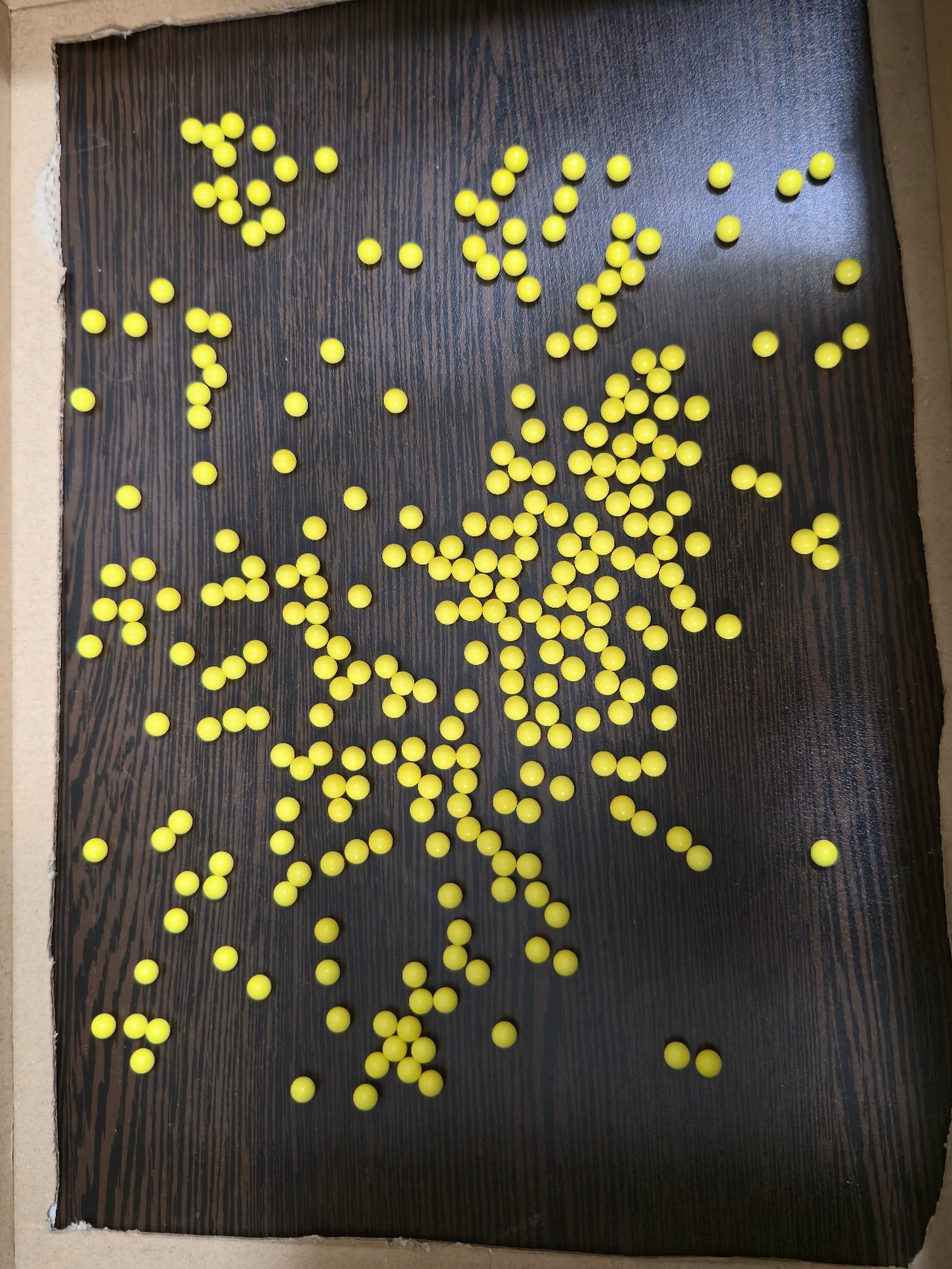yellow_bead: (187, 124, 231, 161), (198, 350, 220, 382), (191, 314, 225, 332), (817, 846, 832, 861), (815, 158, 829, 173), (460, 199, 477, 211), (819, 519, 833, 533), (849, 330, 863, 344), (149, 1025, 164, 1038), (560, 191, 572, 207), (657, 712, 671, 725), (625, 684, 639, 697), (798, 535, 812, 548), (646, 463, 660, 476), (192, 388, 205, 402), (821, 349, 835, 362), (626, 266, 640, 279), (643, 234, 656, 248), (722, 222, 735, 236), (617, 219, 630, 233), (784, 176, 797, 190), (129, 1020, 144, 1032), (193, 408, 205, 423), (482, 259, 494, 274), (509, 255, 521, 270), (613, 161, 625, 176), (209, 880, 222, 893), (215, 858, 228, 871), (637, 817, 650, 830), (453, 799, 466, 812), (647, 758, 660, 771), (418, 684, 431, 697), (601, 676, 614, 689), (665, 569, 678, 582), (579, 518, 592, 531), (518, 518, 531, 531), (654, 517, 667, 530), (672, 497, 685, 510), (635, 490, 648, 503), (762, 479, 775, 492), (598, 459, 611, 472), (682, 447, 695, 460), (639, 425, 652, 438), (652, 374, 665, 387), (666, 351, 679, 364), (759, 338, 772, 351), (598, 308, 611, 321), (155, 284, 168, 297), (224, 205, 237, 218), (350, 782, 364, 794), (658, 672, 672, 684), (721, 621, 735, 633), (640, 560, 654, 572), (607, 403, 619, 417), (552, 338, 564, 352), (579, 330, 591, 344), (248, 226, 260, 240), (509, 224, 521, 238), (266, 214, 278, 228), (227, 583, 242, 594), (818, 553, 833, 564), (405, 248, 416, 263), (280, 161, 291, 176), (320, 152, 331, 167), (297, 1083, 309, 1096), (136, 1055, 149, 1067), (97, 1020, 110, 1032), (253, 981, 265, 994), (219, 953, 232, 965), (280, 887, 292, 900), (692, 852, 705, 864), (350, 846, 363, 858), (416, 803, 428, 816), (460, 775, 472, 788), (623, 763, 635, 776), (347, 752, 359, 765), (378, 746, 390, 759), (582, 713, 594, 726), (614, 707, 627, 719), (649, 632, 662, 644), (688, 614, 701, 626), (501, 584, 513, 597), (521, 542, 533, 555), (611, 498, 624, 510), (537, 467, 550, 479), (622, 465, 634, 478), (574, 456, 586, 469), (658, 442, 671, 454), (691, 402, 704, 414), (660, 401, 672, 414), (630, 396, 643, 408), (611, 380, 623, 393), (638, 355, 650, 368), (129, 318, 141, 331), (603, 276, 615, 289), (228, 715, 242, 726), (98, 604, 112, 615), (207, 589, 221, 600), (591, 481, 602, 495), (140, 966, 152, 978), (170, 915, 182, 927), (181, 878, 193, 890), (293, 869, 305, 881), (498, 858, 510, 870), (483, 837, 495, 849), (276, 837, 288, 849), (673, 834, 685, 846), (157, 834, 169, 846), (463, 823, 475, 835), (174, 816, 186, 828), (522, 805, 534, 817), (282, 803, 294, 815), (556, 783, 568, 795), (424, 781, 436, 793), (526, 768, 538, 780), (598, 758, 610, 770), (541, 708, 553, 720), (460, 695, 472, 707), (540, 680, 552, 692), (396, 678, 408, 690), (506, 676, 518, 688), (607, 653, 619, 665), (506, 652, 518, 664), (546, 646, 558, 658), (590, 634, 602, 646), (127, 627, 139, 639), (567, 622, 579, 634), (633, 613, 645, 625), (593, 608, 605, 620), (124, 605, 136, 617), (550, 590, 562, 602), (601, 582, 613, 594), (475, 579, 487, 591), (504, 561, 516, 573), (302, 559, 314, 571), (581, 556, 593, 568), (480, 555, 492, 567), (617, 553, 629, 565), (660, 542, 672, 554), (496, 522, 508, 534), (492, 477, 504, 489), (738, 471, 750, 483), (497, 448, 509, 460), (619, 440, 631, 452), (590, 429, 602, 441), (527, 425, 539, 437), (570, 413, 582, 425), (290, 399, 302, 411), (87, 315, 99, 327), (408, 968, 419, 981), (551, 909, 562, 922), (531, 888, 542, 901), (498, 883, 509, 896), (523, 860, 534, 873), (89, 845, 102, 856), (432, 839, 443, 852), (438, 752, 451, 763), (202, 724, 215, 735), (150, 719, 163, 730), (250, 713, 263, 724), (208, 673, 221, 684), (289, 608, 302, 619), (441, 608, 454, 619), (464, 604, 477, 615), (572, 594, 585, 605), (136, 564, 149, 575), (629, 520, 642, 531), (514, 464, 527, 475), (327, 344, 338, 357), (583, 290, 594, 303), (364, 245, 375, 258), (199, 189, 210, 202), (524, 282, 534, 296), (417, 1045, 428, 1057), (332, 1015, 343, 1027), (449, 952, 460, 964), (532, 944, 543, 956), (444, 890, 455, 902), (327, 858, 338, 870), (375, 836, 386, 848), (617, 804, 629, 815), (335, 804, 346, 816), (500, 796, 511, 808), (462, 751, 474, 762), (554, 730, 565, 742), (315, 710, 327, 721), (510, 703, 522, 714), (388, 700, 399, 712), (567, 664, 579, 675), (227, 662, 239, 673), (470, 648, 482, 659), (83, 641, 95, 652), (311, 631, 322, 643), (542, 622, 554, 633), (489, 606, 501, 617), (525, 605, 536, 617), (161, 594, 173, 605), (250, 585, 262, 596), (282, 571, 294, 582), (106, 570, 118, 581), (558, 568, 570, 579), (457, 565, 469, 576), (248, 562, 259, 574), (388, 551, 400, 562), (417, 547, 428, 559), (563, 540, 575, 551), (692, 539, 704, 550), (596, 538, 608, 549), (220, 536, 232, 547), (309, 522, 320, 534), (550, 510, 562, 521), (530, 497, 541, 509), (122, 492, 134, 503), (198, 468, 210, 479), (77, 393, 88, 405), (309, 608, 322, 618), (415, 997, 426, 1008), (472, 968, 483, 979), (453, 928, 464, 939), (296, 763, 307, 774), (277, 750, 288, 761), (315, 748, 326, 759), (408, 744, 419, 755), (523, 729, 534, 740), (446, 723, 457, 734), (335, 684, 346, 695), (381, 661, 392, 672), (176, 649, 187, 660), (333, 643, 344, 654), (505, 624, 516, 635), (678, 592, 689, 603), (310, 582, 321, 593), (435, 563, 446, 574), (446, 542, 457, 553), (350, 493, 361, 504), (390, 396, 401, 407), (518, 391, 529, 402), (498, 1029, 508, 1041), (322, 967, 332, 979), (560, 957, 570, 969), (404, 769, 414, 781), (548, 226, 560, 236), (379, 1018, 388, 1031), (842, 269, 855, 278), (714, 173, 727, 182), (359, 1093, 369, 1104), (440, 995, 450, 1006), (353, 668, 364, 678), (320, 662, 330, 673), (354, 592, 365, 602), (469, 520, 480, 530), (405, 513, 416, 523), (278, 457, 289, 467), (252, 189, 264, 198), (568, 165, 580, 174), (371, 1063, 382, 1072), (321, 926, 330, 937), (249, 649, 260, 658), (328, 783, 338, 792), (469, 245, 477, 256), (671, 1049, 678, 1061), (480, 209, 489, 218), (403, 1066, 411, 1076), (510, 155, 518, 164), (617, 248, 621, 261), (425, 1082, 431, 1090), (389, 1046, 394, 1054), (403, 1024, 408, 1032), (257, 135, 263, 140), (498, 179, 505, 183), (228, 122, 232, 128), (222, 186, 226, 190), (707, 1064, 708, 1064)
